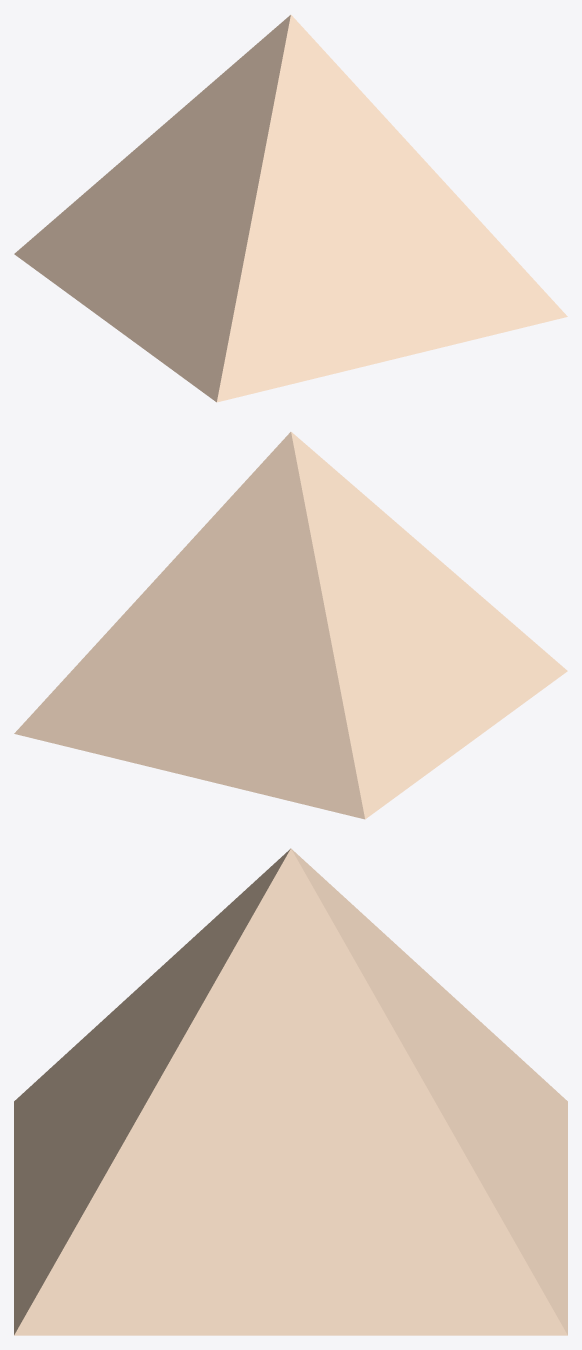
File: Abstract_Castle_Block_1_Unit_Beige_Castle_Top_01.fbx
3 renders of one model, top to bottom at view 1: azimuth 30°, elevation 25°; view 2: azimuth 150°, elevation 25°; view 3: azimuth 270°, elevation 25°, orthographic. The views are drawn at different scales.
Visible parts, largest first — view 1: Abstract_Castle_Block_1_Unit_Beige_Castle_Top_01; view 2: Abstract_Castle_Block_1_Unit_Beige_Castle_Top_01; view 3: Abstract_Castle_Block_1_Unit_Beige_Castle_Top_01.
Part boxes in pixels (<box>): Abstract_Castle_Block_1_Unit_Beige_Castle_Top_01: <box>14,15,567,402</box>; Abstract_Castle_Block_1_Unit_Beige_Castle_Top_01: <box>14,432,567,819</box>; Abstract_Castle_Block_1_Unit_Beige_Castle_Top_01: <box>14,848,567,1335</box>.
Bounding box in the file's own units: 74.4 × 54.86 × 74.4.
